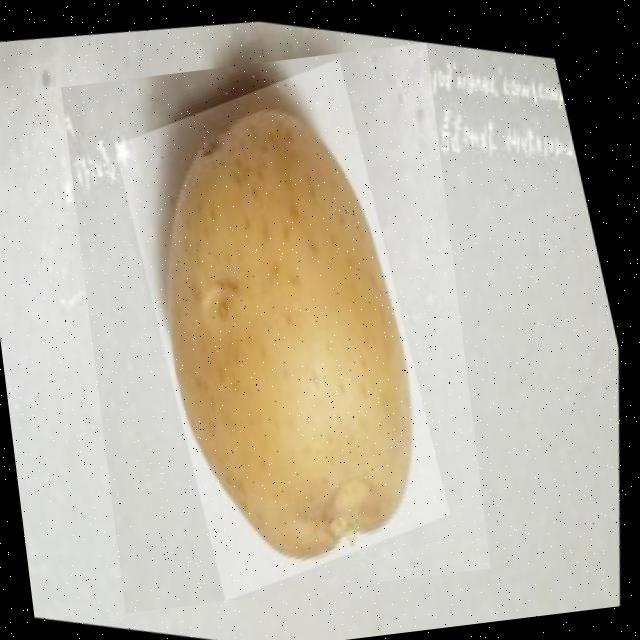Potato: (61, 42, 490, 613)
